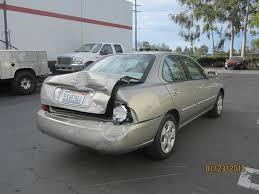Bumper: (38, 111, 164, 154)
Dickey: (40, 70, 145, 121)
Fender: (114, 84, 170, 122)
Light: (108, 102, 136, 126)
